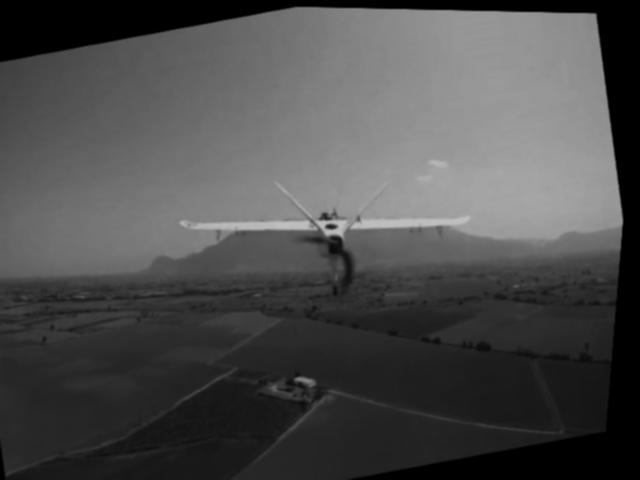hedef: (165, 129, 495, 330)
